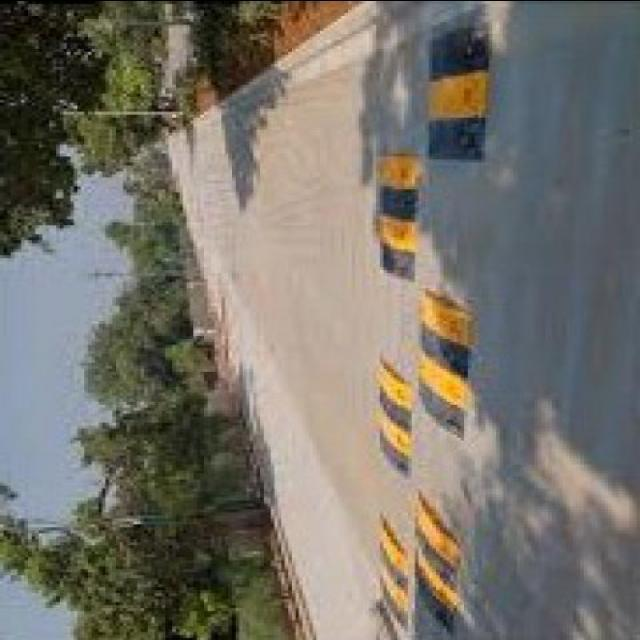speedbreaker: (344, 0, 513, 640)
